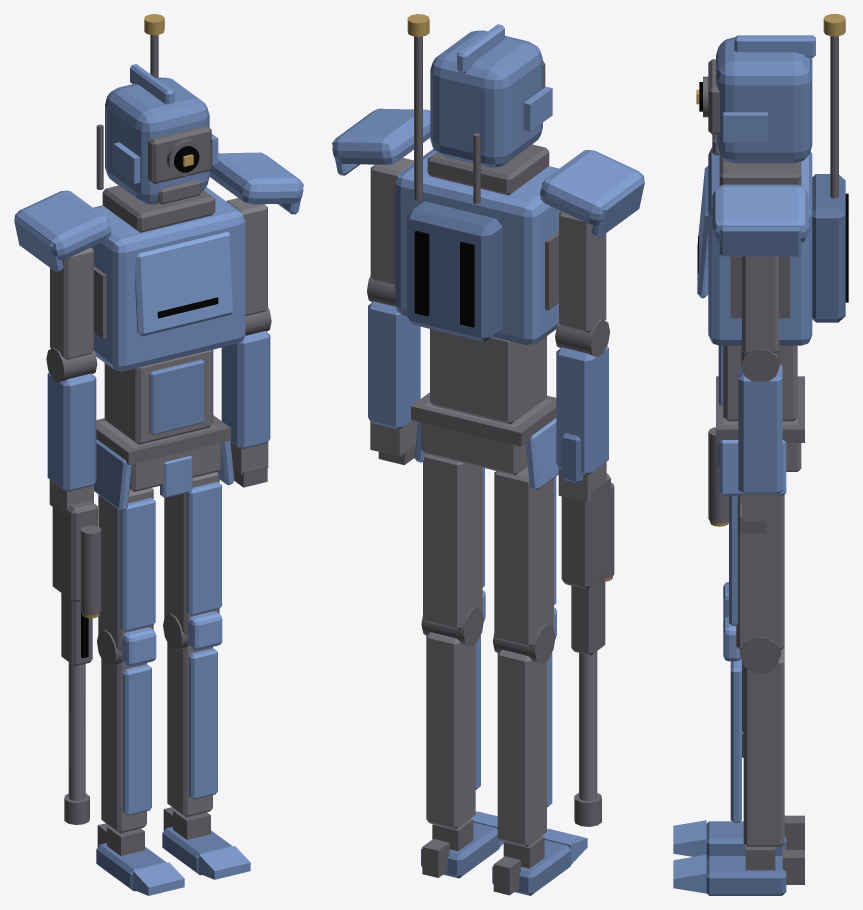
The model's file is sentinel.glb.
3 views of the same model, side by side, from view 1: azimuth 30°, elevation 25°; view 2: azimuth 150°, elevation 25°; view 3: azimuth 270°, elevation 25° (orthographic). The views are drawn at different scales.
Parts seen in each view (by area): view 1: sentinel.010, sentinel*1.15, sentinel*0.002, sentinel*0.005, sentinel*0.9, gunmetal*1.006, sentinel.001, sentinel.004, sentinel.005, sentinel.002, gunmetal*1.009, gunmetal*1.004 (+36 smaller); view 2: sentinel.010, sentinel*0.002, gunmetal*1.002, gunmetal*1.3, sentinel*0.6, gunmetal*1.004, gunmetal*1.001, gunmetal*1.006, sentinel*0.9, sentinel*0.005, gunmetal*1.009, sentinel.015 (+33 smaller); view 3: sentinel*0.002, gunmetal*1.001, sentinel.010, gunmetal*1.3, sentinel*0.9, sentinel*0.6, sentinel.014, gunmetal*1.007, sentinel*0.7, gunmetal*1.006, sentinel*0.003, sentinel.002 (+24 smaller).
Part boxes in pixels (bbox=[...]): sentinel.010: bbox=[91, 187, 245, 371]; sentinel*1.15: bbox=[135, 232, 234, 336]; sentinel*0.002: bbox=[105, 77, 209, 204]; sentinel*0.005: bbox=[47, 372, 96, 491]; sentinel*0.9: bbox=[221, 331, 270, 448]; gunmetal*1.006: bbox=[104, 349, 213, 444]; sentinel.001: bbox=[186, 481, 221, 615]; sentinel.004: bbox=[120, 497, 155, 631]; sentinel.005: bbox=[122, 664, 151, 815]; sentinel.002: bbox=[188, 648, 217, 799]; gunmetal*1.009: bbox=[50, 247, 93, 359]; gunmetal*1.004: bbox=[101, 659, 146, 833]; sentinel.010: bbox=[395, 149, 561, 344]; sentinel*0.002: bbox=[430, 30, 542, 167]; gunmetal*1.002: bbox=[494, 466, 553, 647]; gunmetal*1.3: bbox=[423, 454, 482, 629]; sentinel*0.6: bbox=[407, 201, 502, 342]; gunmetal*1.004: bbox=[497, 649, 546, 846]; gunmetal*1.001: bbox=[426, 632, 475, 829]; gunmetal*1.006: bbox=[430, 329, 546, 424]; sentinel*0.9: bbox=[368, 301, 420, 429]; sentinel*0.005: bbox=[556, 346, 608, 474]; gunmetal*1.009: bbox=[559, 211, 606, 332]; sentinel.015: bbox=[540, 150, 644, 224]; sentinel*0.002: bbox=[716, 37, 812, 163]; gunmetal*1.001: bbox=[743, 648, 784, 846]; sentinel.010: bbox=[708, 147, 812, 345]; gunmetal*1.3: bbox=[736, 495, 784, 649]; sentinel*0.9: bbox=[738, 364, 782, 494]; sentinel*0.6: bbox=[812, 174, 845, 322]; sentinel.014: bbox=[712, 184, 808, 242]; gunmetal*1.007: bbox=[742, 256, 778, 353]; sentinel*0.7: bbox=[706, 856, 786, 895]; gunmetal*1.006: bbox=[723, 345, 797, 421]; sentinel*0.003: bbox=[719, 227, 801, 256]; sentinel.002: bbox=[730, 658, 741, 822].
Size of the model in its own units: 0.8468 by 2.58 by 0.473.
